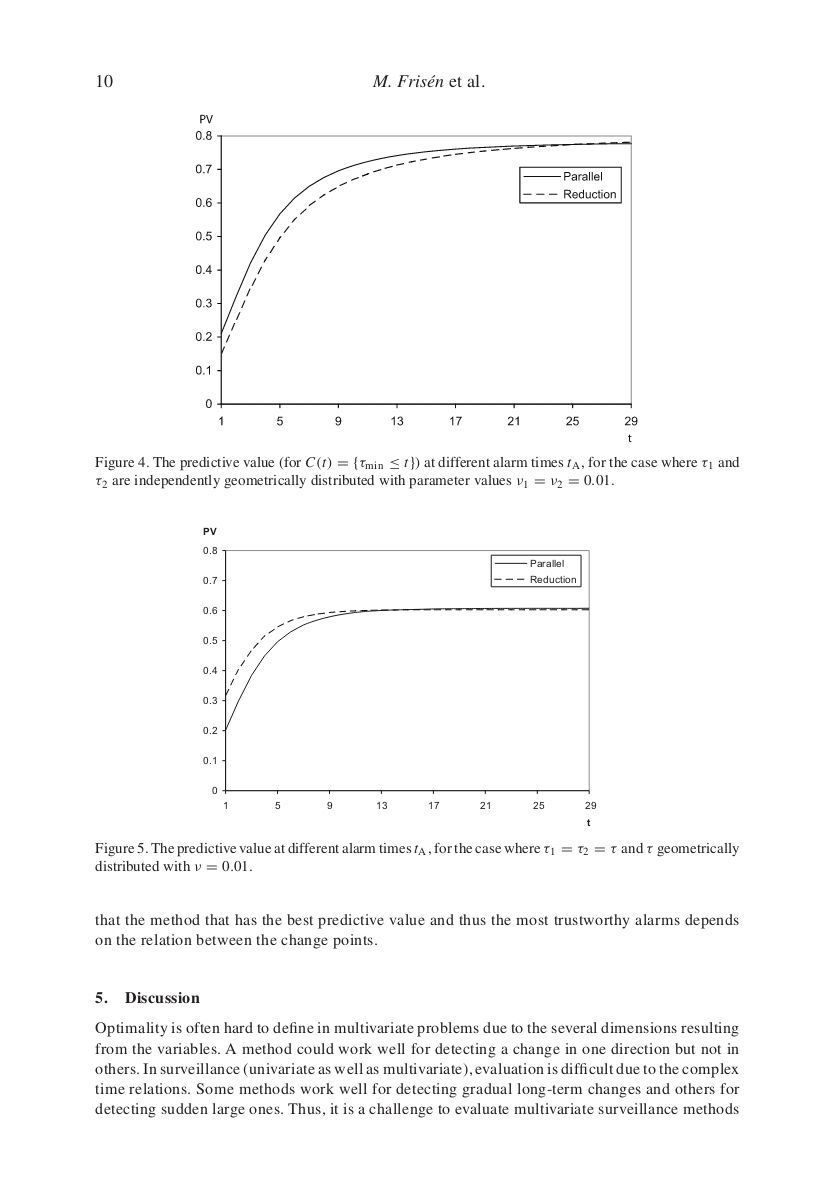figure: (196, 114, 637, 442), (203, 527, 596, 825)
